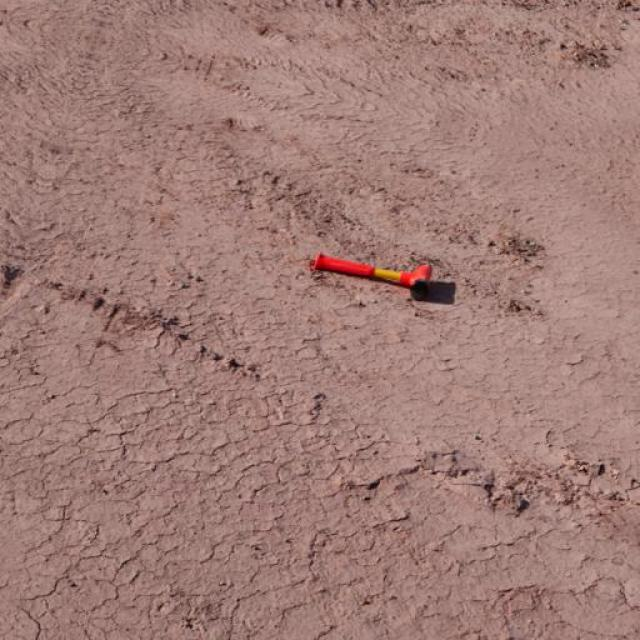mallet: (310, 250, 435, 298)
